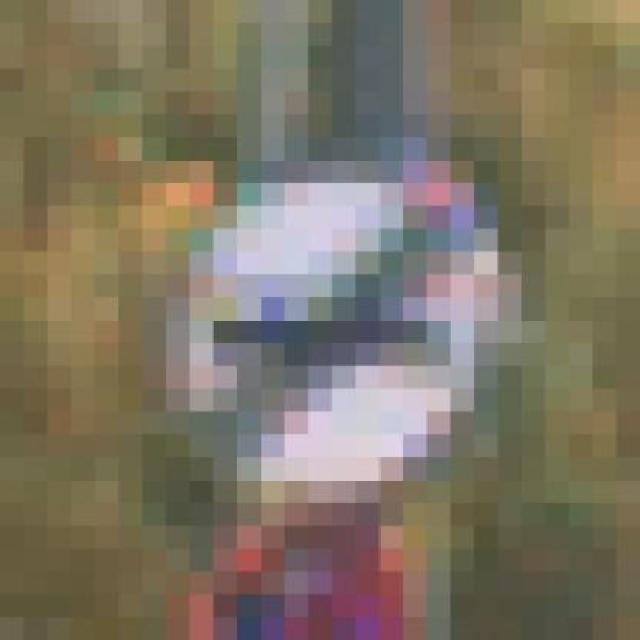No_Over_Taking: (94, 91, 546, 503)
